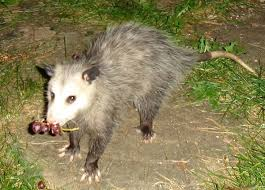opossum: (33, 20, 259, 184)
